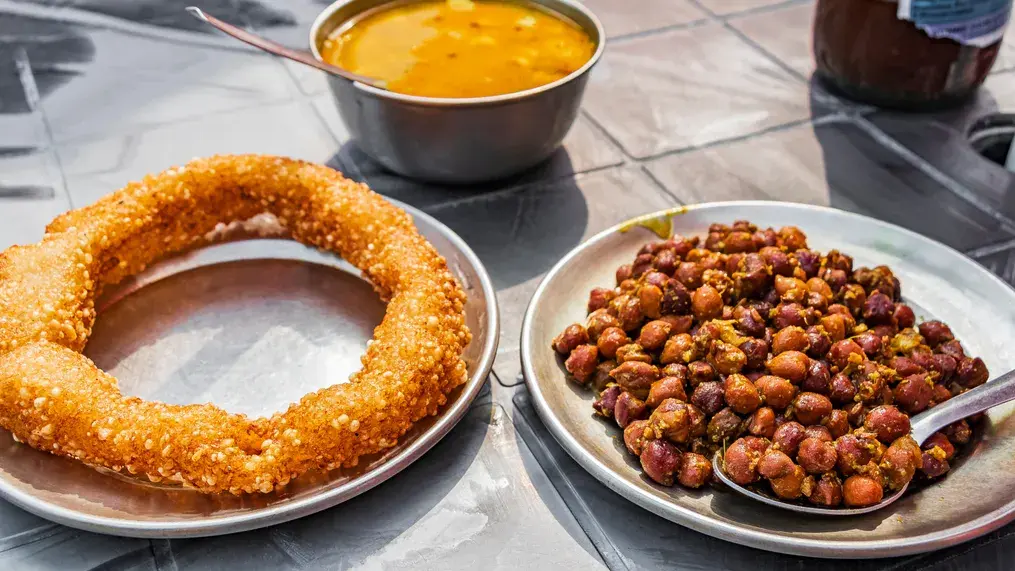sel_roti: (2, 158, 462, 498)
